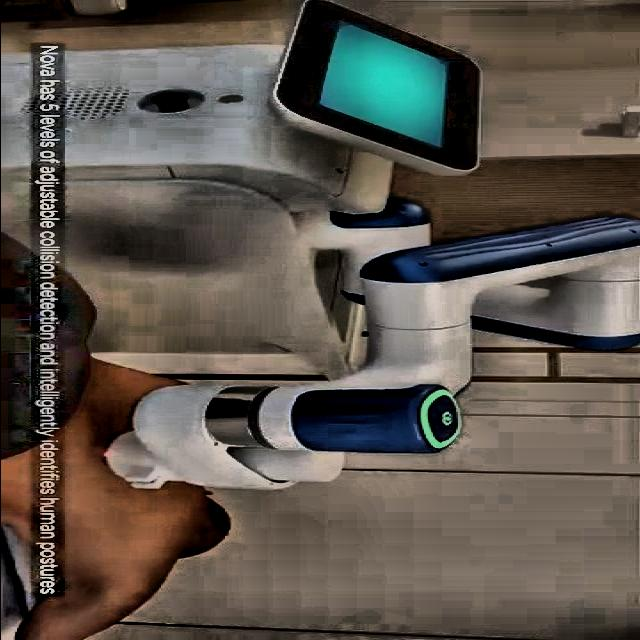robot: (2, 0, 640, 492), (103, 206, 640, 492)
